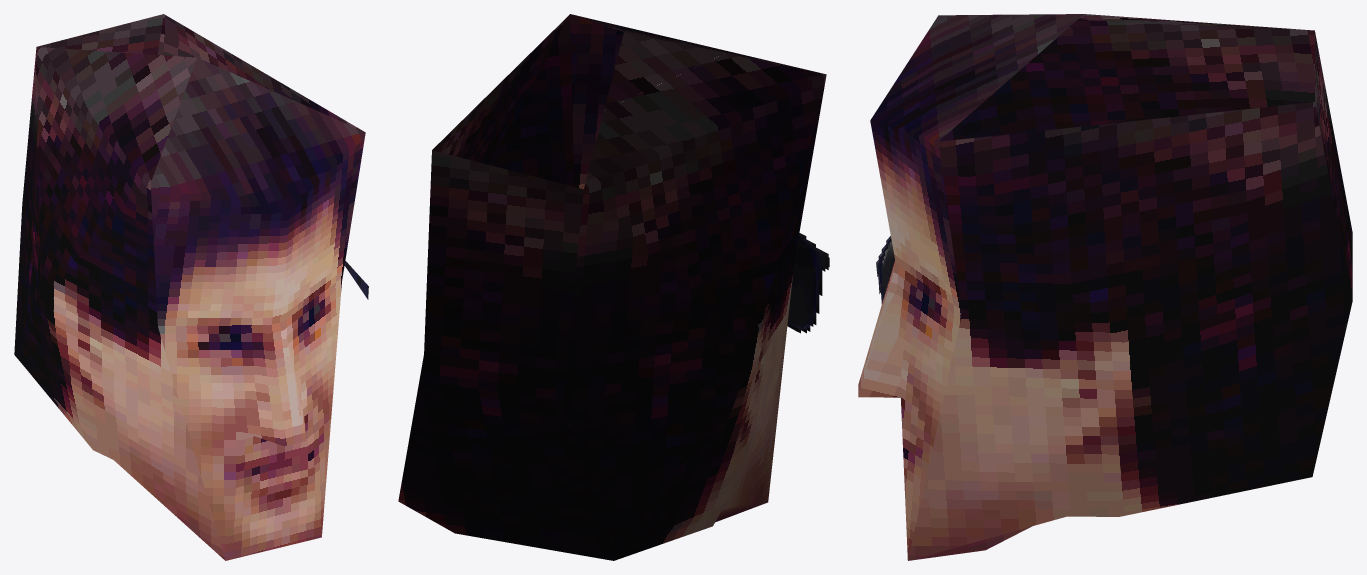
The model's file is CheadscottZ.obj.
3 views of the same model, side by side, from view 1: azimuth 30°, elevation 25°; view 2: azimuth 150°, elevation 25°; view 3: azimuth 270°, elevation 25° (orthographic). The views are drawn at different scales.
Size of the model in its own units: 154 by 252 by 210.
8 materials, 8 textured.
